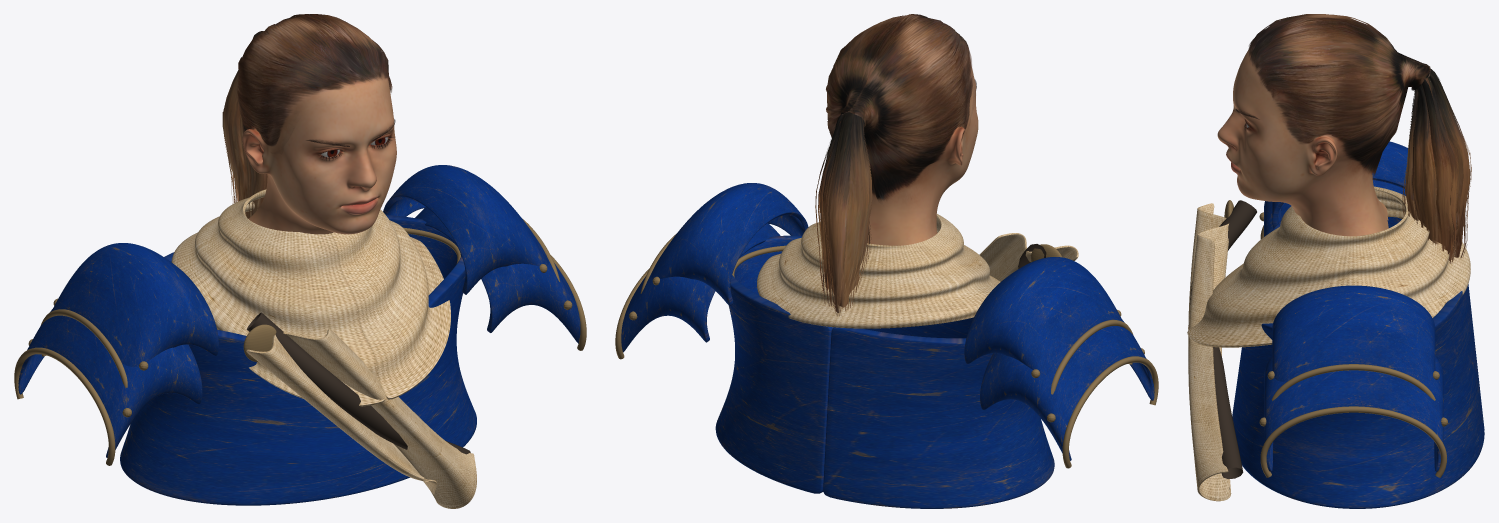
Rendered from leader_bust.glb.
3 views of the same model, side by side, from view 1: azimuth 30°, elevation 25°; view 2: azimuth 150°, elevation 25°; view 3: azimuth 270°, elevation 25° (orthographic). The views are drawn at different scales.
Parts seen in each view (by area): view 1: Protective cuirass, Wrapped scarf folds, Leader_anatomical_foundation, Leader_Hair, Layered shoulder shell, Overlapping scarf end, Layered shoulder shell.002, Layered shoulder shell.001, Layered shoulder shell.003, Leather carrying strap, Shoulder metal edge.001, Shoulder metal edge (+1 smaller); view 2: Protective cuirass, Leader_Hair, Wrapped scarf folds, Layered shoulder shell, Layered shoulder shell.002, Layered shoulder shell.001, Leader_anatomical_foundation, Layered shoulder shell.003, Overlapping scarf end, Shoulder metal edge.001, Shoulder metal edge; view 3: Leader_Hair, Protective cuirass, Wrapped scarf folds, Leader_anatomical_foundation, Layered shoulder shell.002, Overlapping scarf end, Layered shoulder shell.003, Leather carrying strap, Shoulder metal edge.003, Layered shoulder shell, Shoulder metal edge.002, Layered shoulder shell.001.
Boxes of the visible parts, x1,y1,x2,y2 form: Protective cuirass: (120,215,476,505); Wrapped scarf folds: (171,189,450,406); Leader_anatomical_foundation: (242,73,396,234); Leader_Hair: (222,14,392,218); Layered shoulder shell: (52,243,218,367); Overlapping scarf end: (246,329,476,508); Layered shoulder shell.002: (383,165,548,294); Layered shoulder shell.001: (18,309,202,457); Layered shoulder shell.003: (415,207,580,343); Leather carrying strap: (246,312,470,454); Shoulder metal edge.001: (14,347,115,465); Shoulder metal edge: (41,309,127,387); Protective cuirass: (715,235,1054,508); Leader_Hair: (815,14,973,316); Wrapped scarf folds: (757,214,1000,328); Layered shoulder shell: (964,257,1122,374); Layered shoulder shell.002: (651,183,808,305); Layered shoulder shell.001: (980,319,1154,460); Leader_anatomical_foundation: (839,62,978,245); Layered shoulder shell.003: (621,223,780,352); Overlapping scarf end: (979,233,1078,281); Shoulder metal edge.001: (1062,356,1158,468); Shoulder metal edge: (1051,319,1133,394); Leader_Hair: (1248,14,1471,263); Protective cuirass: (1232,217,1484,508); Wrapped scarf folds: (1187,186,1470,347); Leader_anatomical_foundation: (1217,50,1388,236); Layered shoulder shell.002: (1272,285,1435,381); Overlapping scarf end: (1188,203,1231,501); Layered shoulder shell.003: (1264,356,1443,471); Leather carrying strap: (1190,200,1256,479); Shoulder metal edge.003: (1260,406,1446,477); Layered shoulder shell: (1272,141,1407,228); Shoulder metal edge.002: (1271,364,1435,400); Layered shoulder shell.001: (1264,180,1405,236).
Size of the model in its own units: 0.577 by 0.5404 by 0.326.
Materials: 14 (12 with a texture image).
